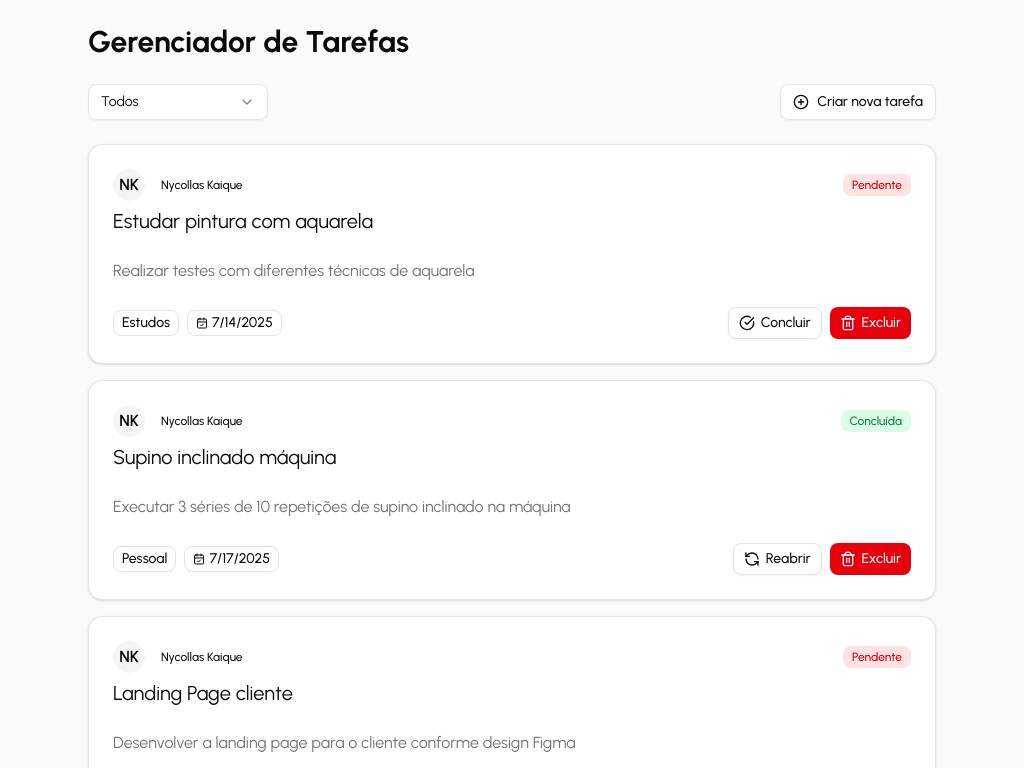
Test: CategoryFilter in TasksList › atualiza a lista ao trocar categoria (shadcn UI)
Expected: the link "Estudar pintura com aquarela" is shown, x1=113 y1=209 x2=373 y2=233
Expected: the link "Supino inclinado máquina" is shown, x1=113 y1=445 x2=336 y2=469
// Selecionar "Estudos"
Click the dropdown.
click(178, 102)  # box x1=88 y1=84 x2=268 y2=120
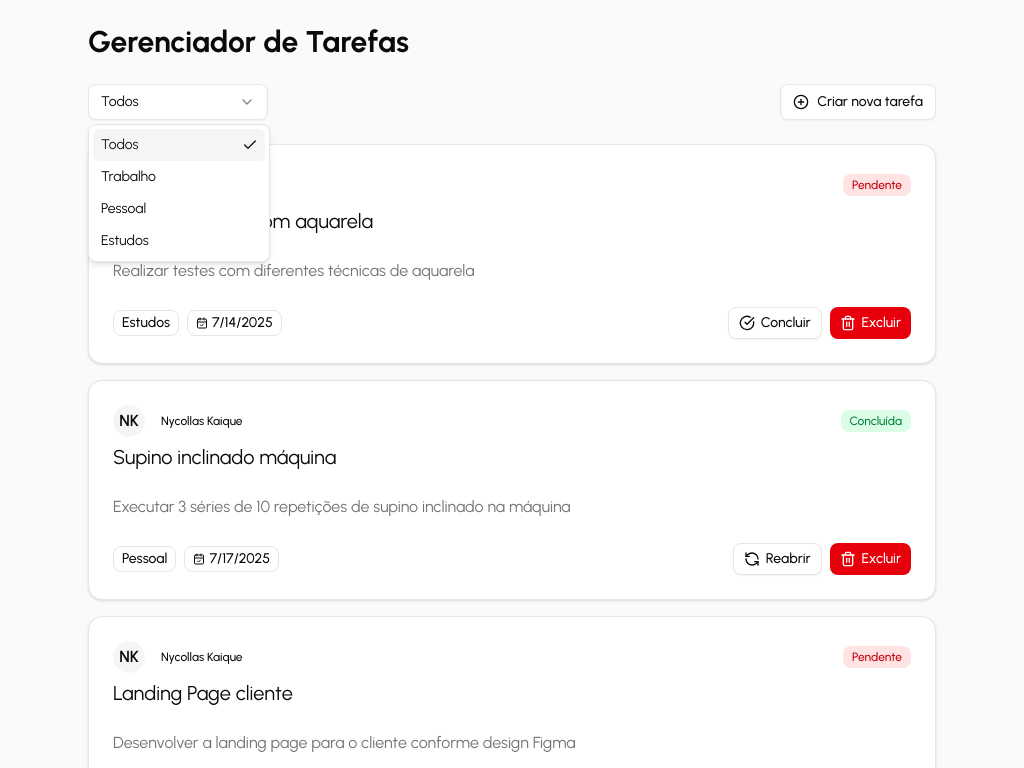
Click the option "Estudos".
click(125, 240)  # box x1=101 y1=232 x2=149 y2=249
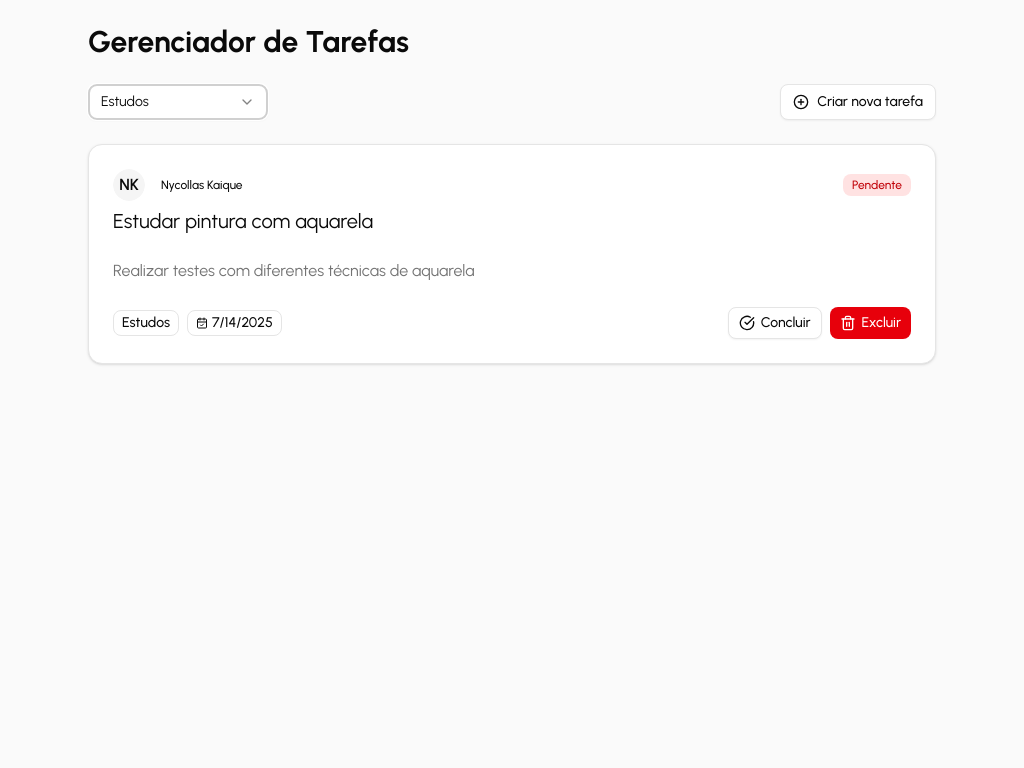
Expected: the link "Estudar pintura com aquarela" is shown, x1=113 y1=209 x2=373 y2=233
Expected: the link "Supino inclinado máquina" is gone
Expected: the link "Landing Page cliente" is gone
// Selecionar "Pessoal"
Click the dropdown.
click(178, 102)  # box x1=88 y1=84 x2=268 y2=120
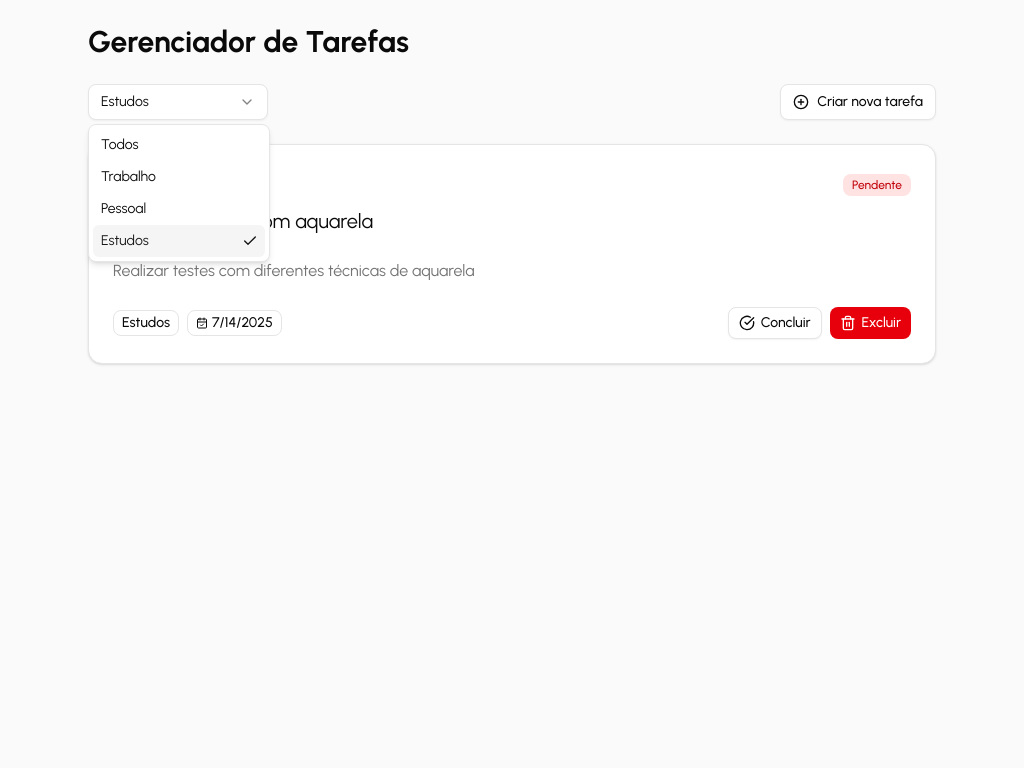
Click the option "Pessoal".
click(124, 208)  # box x1=101 y1=200 x2=146 y2=217
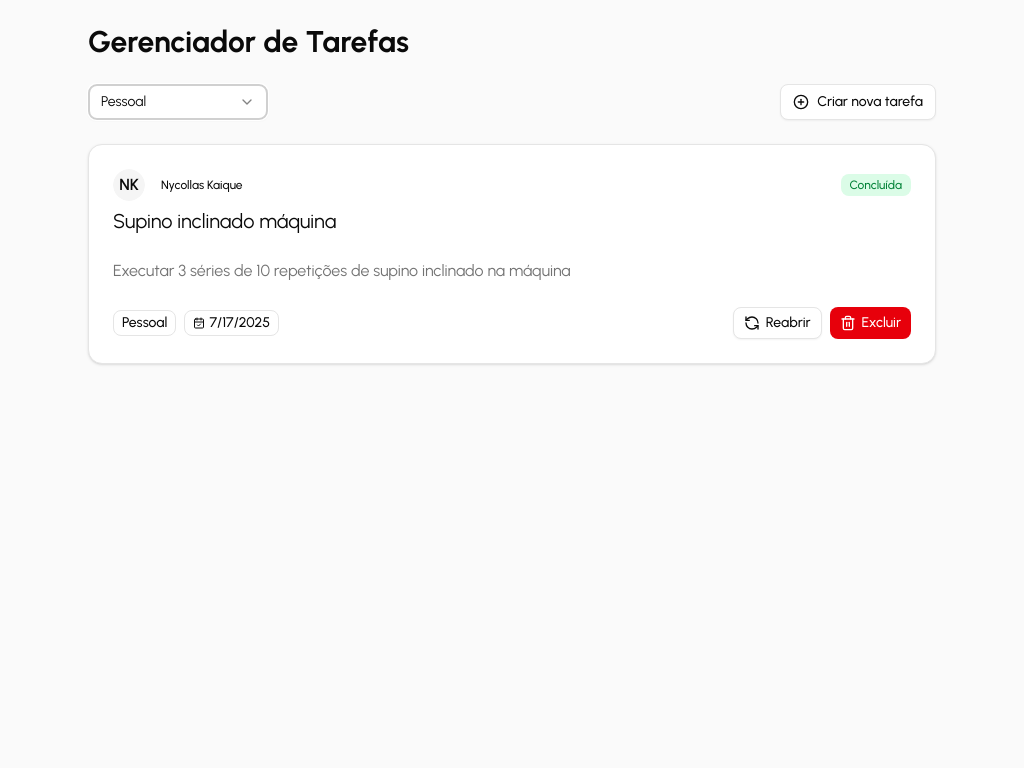
Expected: the link "Landing Page cliente" is not shown
Expected: the link "Supino inclinado máquina" is shown, x1=113 y1=209 x2=336 y2=233
Expected: the link "Estudar pintura com aquarela" is gone
// Selecionar "Trabalho"
Click the dropdown.
click(178, 102)  # box x1=88 y1=84 x2=268 y2=120
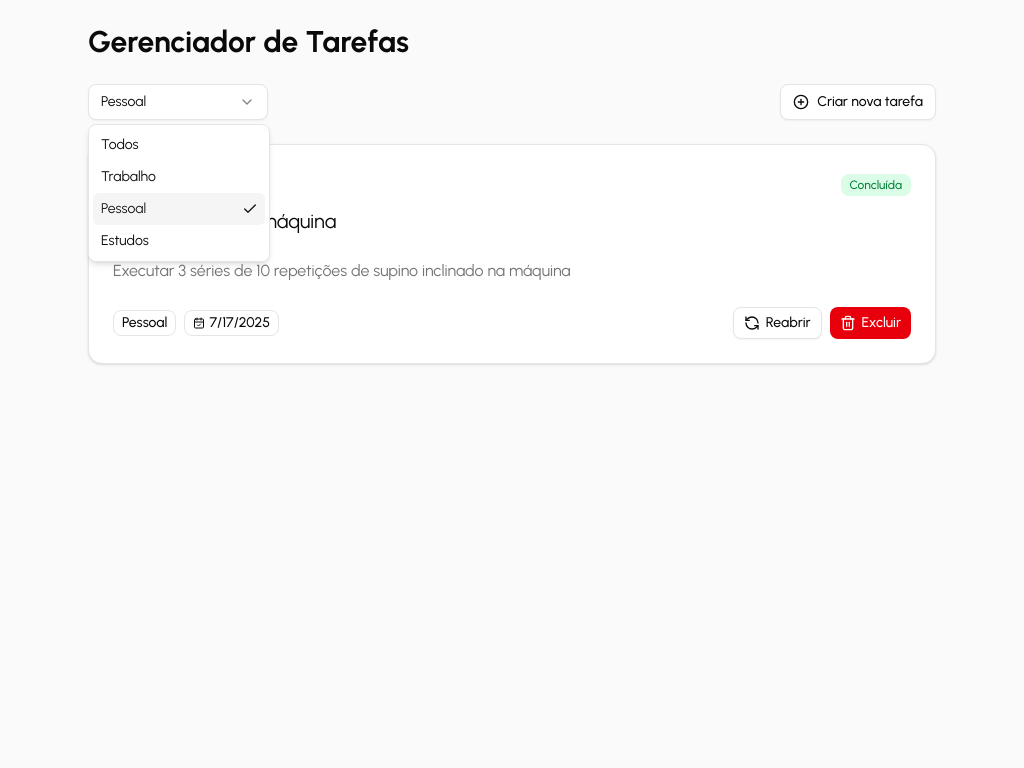
Click the option "Trabalho".
click(128, 176)  # box x1=101 y1=168 x2=156 y2=185
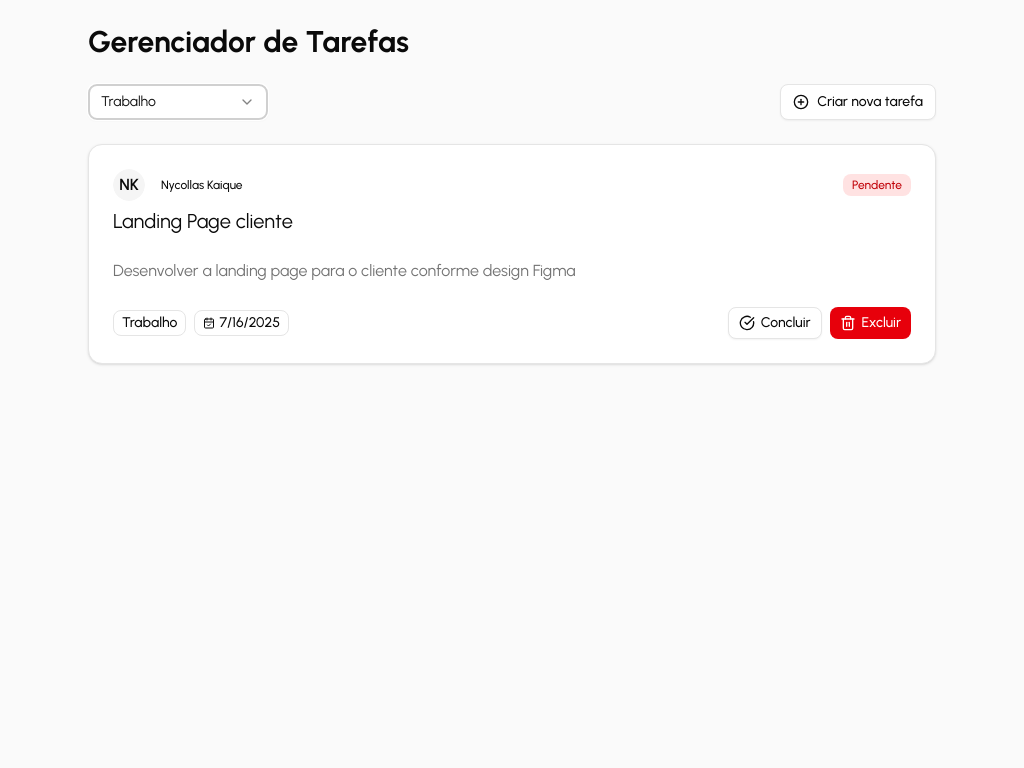
Expected: the link "Estudar pintura com aquarela" is not shown
Expected: the link "Landing Page cliente" is shown, x1=113 y1=209 x2=293 y2=233
Expected: the link "Supino inclinado máquina" is gone
